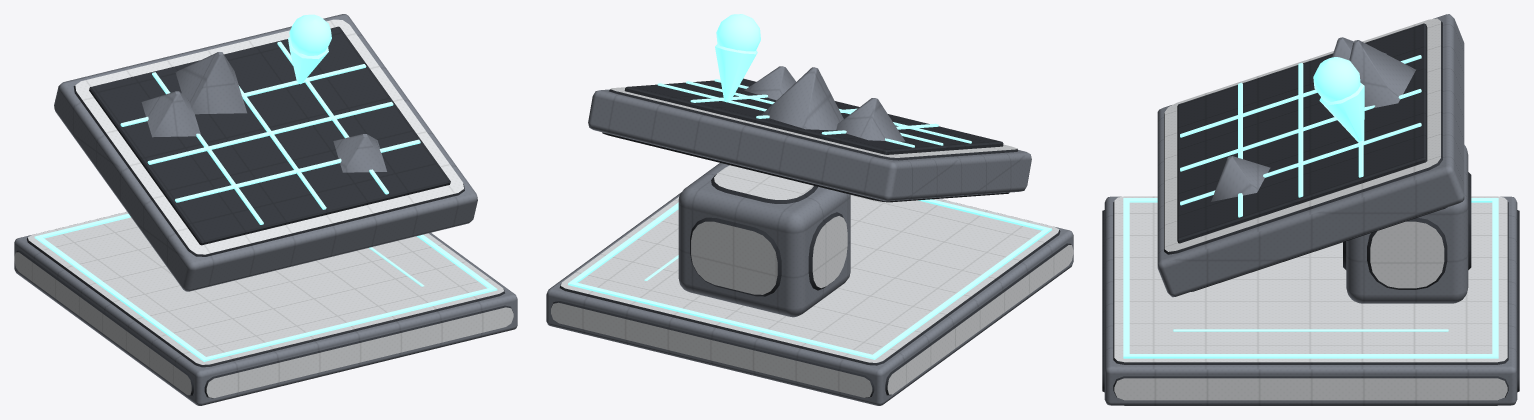
File: R4X_Minimap.glb
The picture shows the model from 3 angles, left to right: view 1: azimuth 30°, elevation 25°; view 2: azimuth 150°, elevation 25°; view 3: azimuth 270°, elevation 25°; orthographic projection. The views are drawn at different scales.
Parts seen in each view (by area): view 1: R4X_Minimap_Body; view 2: R4X_Minimap_Body; view 3: R4X_Minimap_Body.
Part boxes in pixels (x1,y1,x2,y2): R4X_Minimap_Body: (14, 14, 517, 405); R4X_Minimap_Body: (546, 14, 1073, 405); R4X_Minimap_Body: (1102, 14, 1519, 405).
Bounding box in the file's own units: 0.52 × 0.4044 × 0.52.
Materials: 4 (3 with a texture image).
